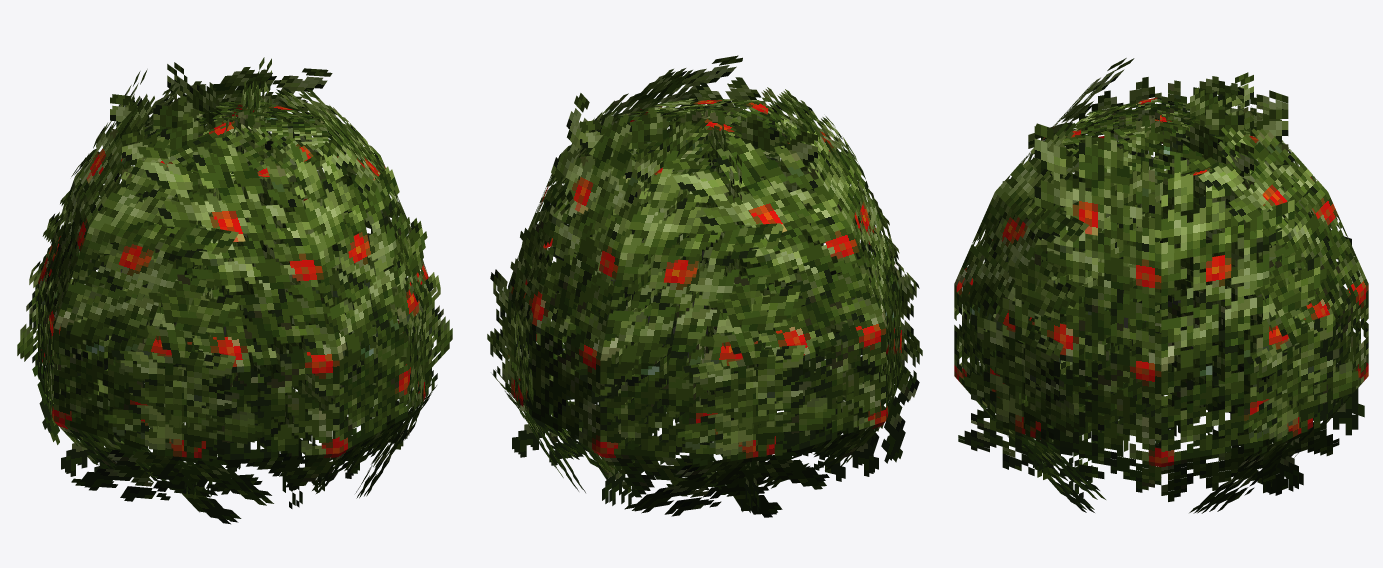
File: bush03_spring6.glb
3 renders of one model, left to right at view 1: azimuth 30°, elevation 25°; view 2: azimuth 150°, elevation 25°; view 3: azimuth 270°, elevation 25°, orthographic.
Visible parts, largest first — view 1: bush03; view 2: bush03; view 3: bush03.
Boxes of the visible parts, x1,y1,x2,y2 form: bush03: [17, 57, 452, 524]; bush03: [487, 55, 922, 517]; bush03: [954, 58, 1368, 513].
Size of the model in its own units: 1.53 by 1.5 by 1.53.
1 material, 1 textured.
